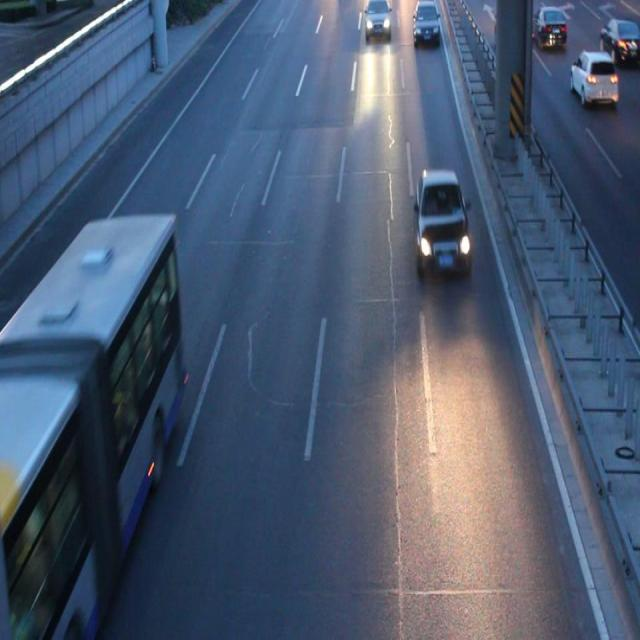car: (416, 169, 469, 273), (568, 52, 616, 102), (600, 17, 640, 65), (497, 10, 531, 52), (528, 8, 564, 44), (412, 1, 438, 44), (365, 1, 389, 39)
van: (1, 217, 182, 640)
